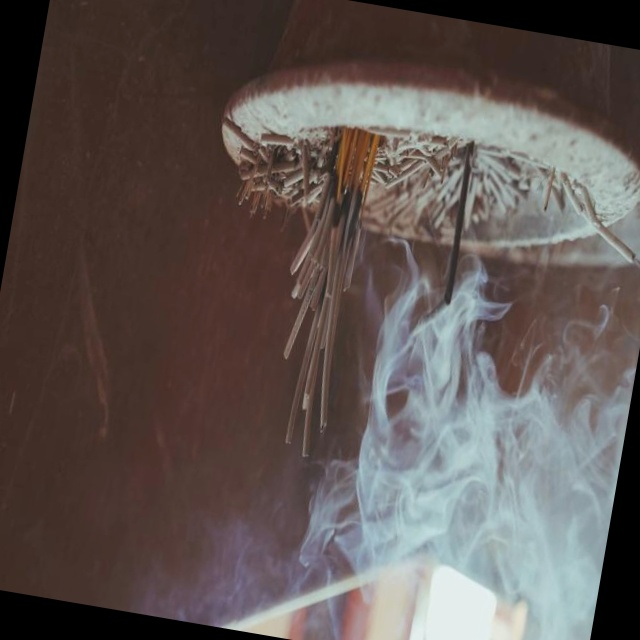smoke: (270, 266, 640, 640)
